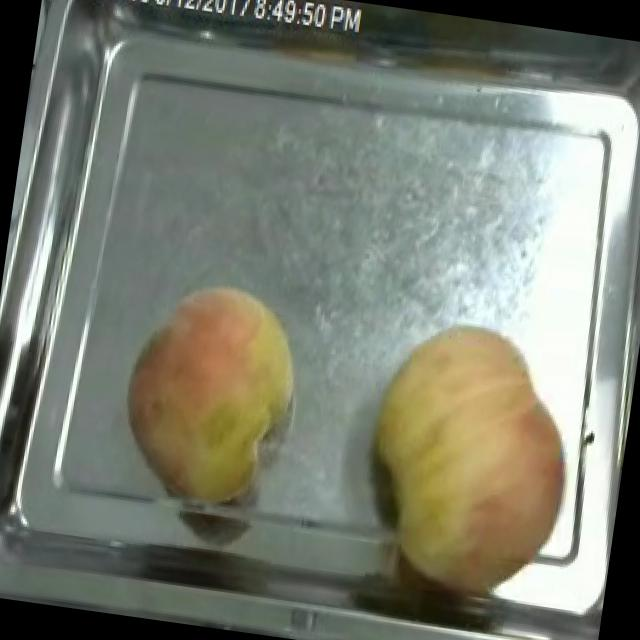Fruit: (344, 308, 602, 610), (110, 267, 318, 518)
